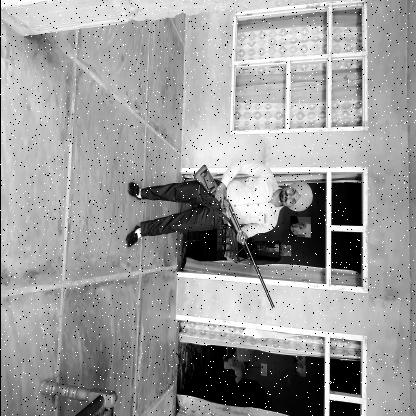rifle: (190, 163, 276, 311)
